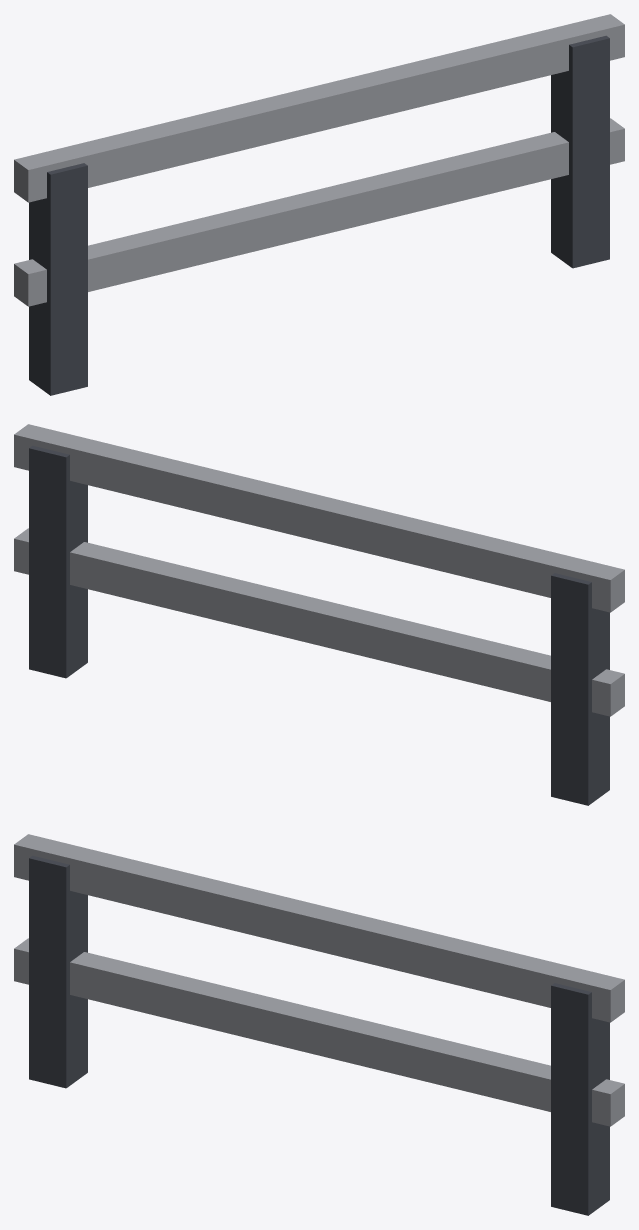
File: dec_barrier.glb
3 views of the same model, one above another, from view 1: azimuth 30°, elevation 25°; view 2: azimuth 150°, elevation 25°; view 3: azimuth 330°, elevation 25° (orthographic).
Visible parts, largest first — view 1: dec_barrier_mesh; view 2: dec_barrier_mesh; view 3: dec_barrier_mesh.
Boxes of the visible parts, left/top/right/bottom form: dec_barrier_mesh: left=14, top=14, right=624, bottom=395; dec_barrier_mesh: left=14, top=424, right=624, bottom=805; dec_barrier_mesh: left=14, top=834, right=624, bottom=1215.
Size of the model in its own units: 0.48 by 0.175 by 0.03.
Materials: 1 (1 with a texture image).
